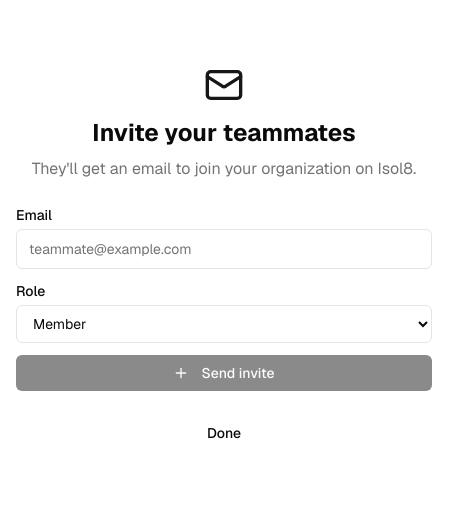
InviteTeammatesStep › accumulates multiple sent invites in the list
The image size is (449, 510).
Type "a@b.com" into the field labelled "Email" at {"x": 224, "y": 249}, box x1=16 y1=229 x2=432 y2=269
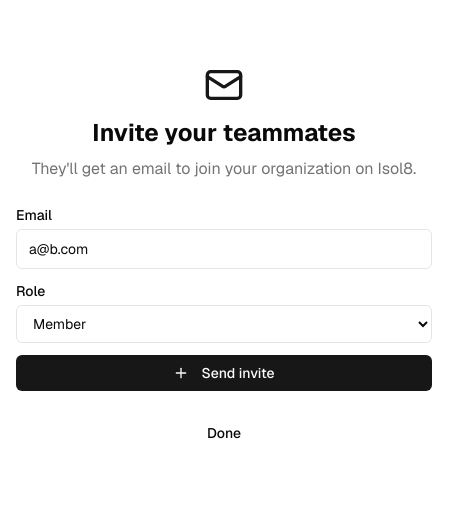
Click the button "Send invite" at {"x": 224, "y": 373}, box x1=16 y1=355 x2=432 y2=391
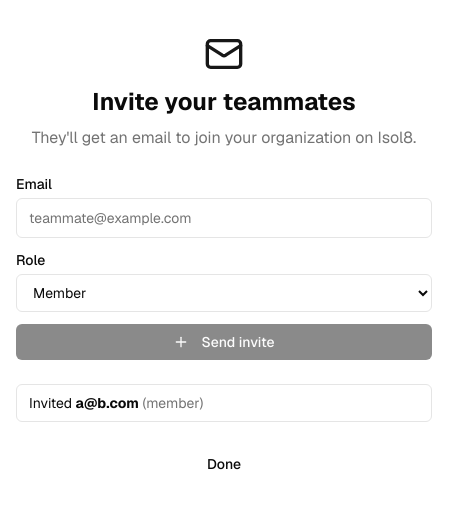
Result: the text "a@b.com" is shown at x1=76 y1=394 x2=139 y2=412
Type "c@d.com" into the field labelled "Email" at {"x": 224, "y": 218}, box x1=16 y1=198 x2=432 y2=238
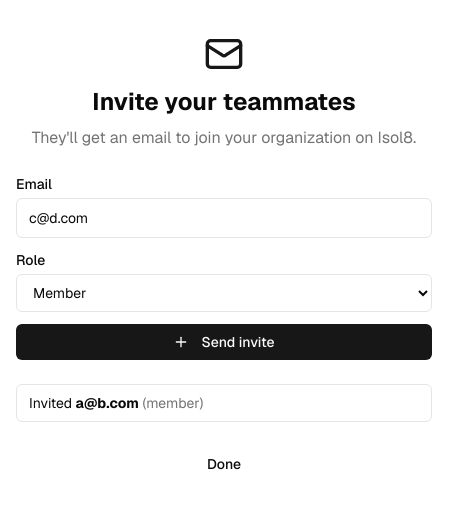
Click the button "Send invite" at {"x": 224, "y": 342}, box x1=16 y1=324 x2=432 y2=360
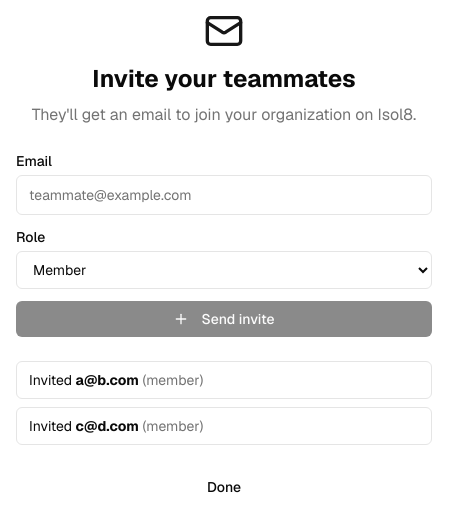
Result: the text "a@b.com" is shown at x1=76 y1=371 x2=139 y2=389
Result: the text "c@d.com" is shown at x1=76 y1=417 x2=139 y2=435
